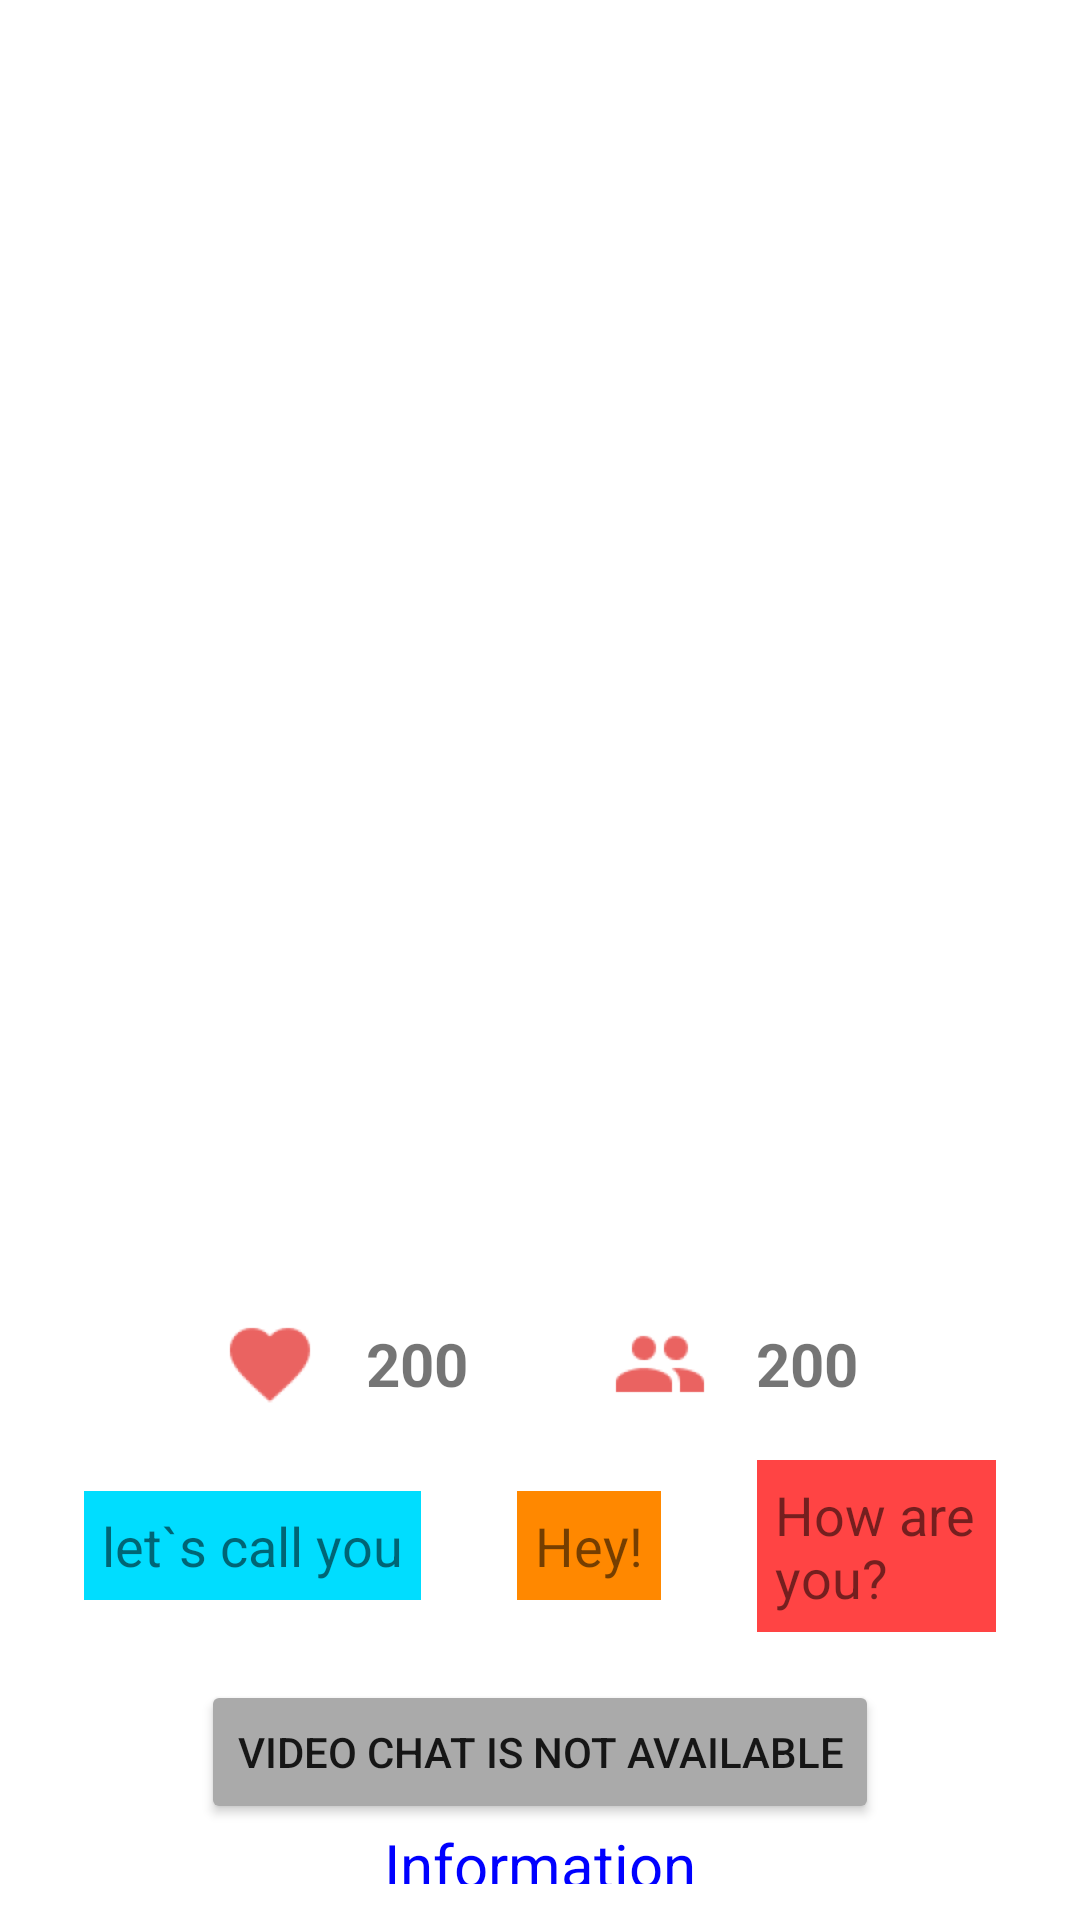

Icon click points for this 1080×1920 phone screenshot, format [x,y]:
favorite: [270,1365]
